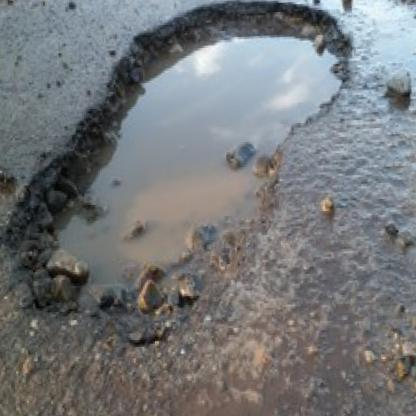pothole: (0, 0, 367, 347)
